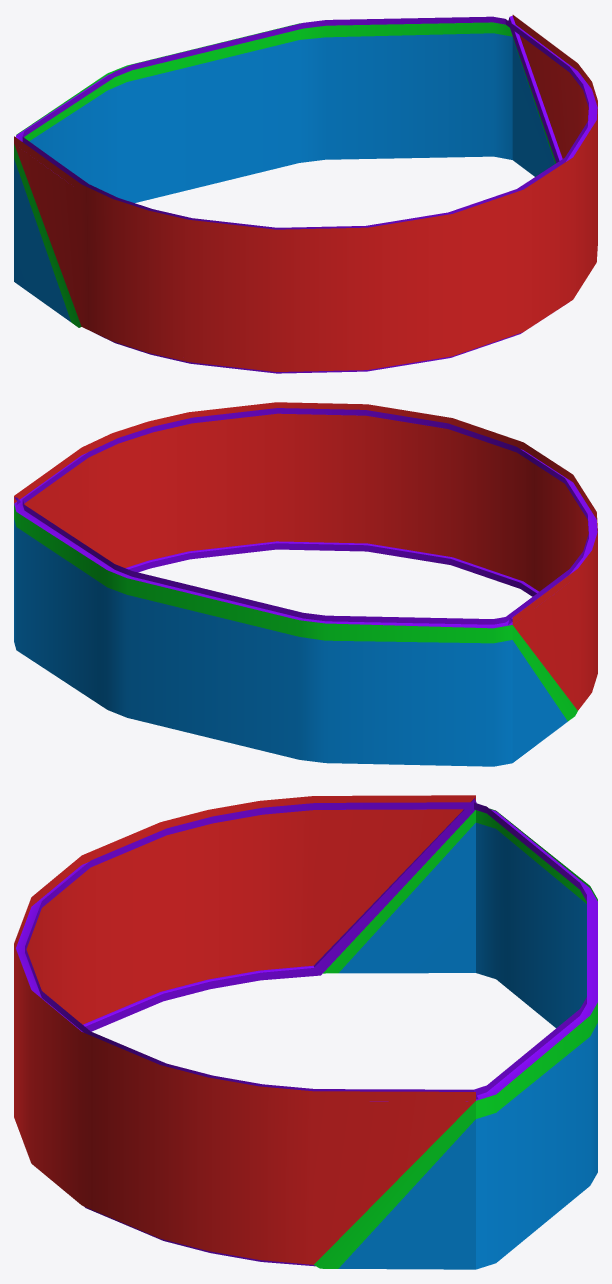
Rendered from SM_Hall_Auditorium_Walls.fbx.
The picture shows the model from 3 angles, top to bottom: view 1: azimuth 30°, elevation 25°; view 2: azimuth 150°, elevation 25°; view 3: azimuth 270°, elevation 25°; orthographic projection. The views are drawn at different scales.
Visible parts, largest first — view 1: SM_Hall_Auditorium_Walls; view 2: SM_Hall_Auditorium_Walls; view 3: SM_Hall_Auditorium_Walls.
Boxes of the visible parts, box(x1,y1,x2,y2) form: SM_Hall_Auditorium_Walls: box(14, 15, 597, 373); SM_Hall_Auditorium_Walls: box(14, 402, 597, 766); SM_Hall_Auditorium_Walls: box(14, 795, 597, 1269).
Size of the model in its own units: 5492 by 1534 by 4569.
